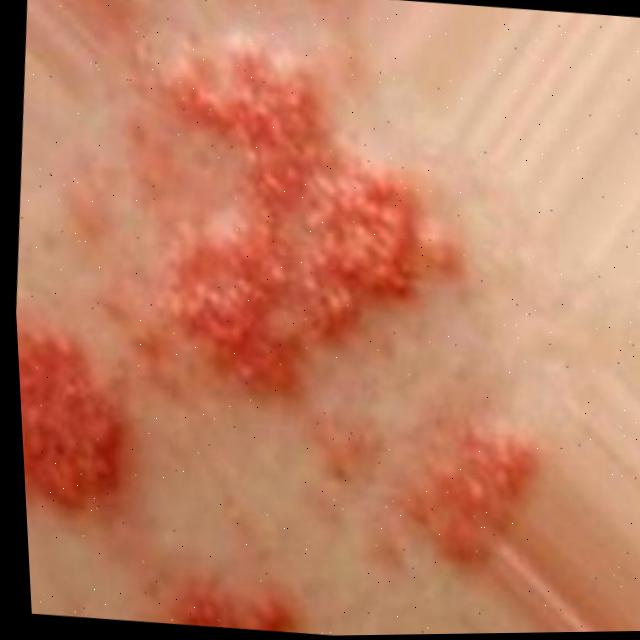Shingles: (138, 41, 441, 388), (17, 331, 123, 494), (415, 431, 534, 541), (177, 580, 284, 632)
